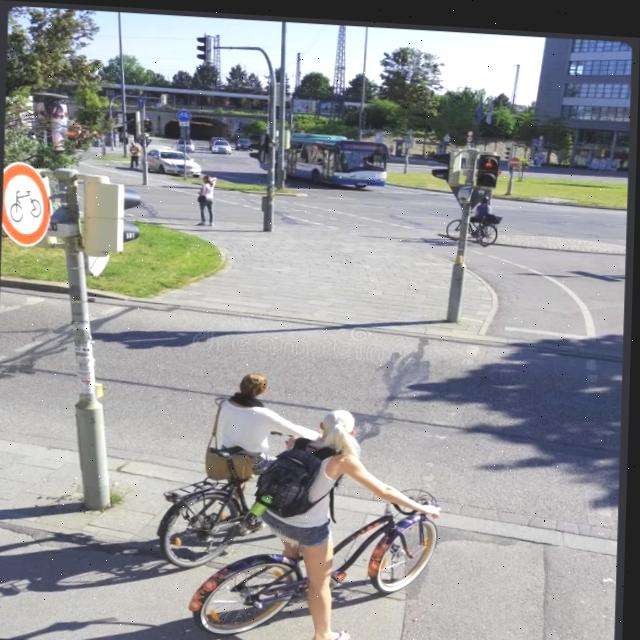bus: (265, 127, 392, 187)
car: (150, 145, 204, 177), (175, 136, 201, 151), (212, 138, 231, 153), (237, 134, 253, 149)
